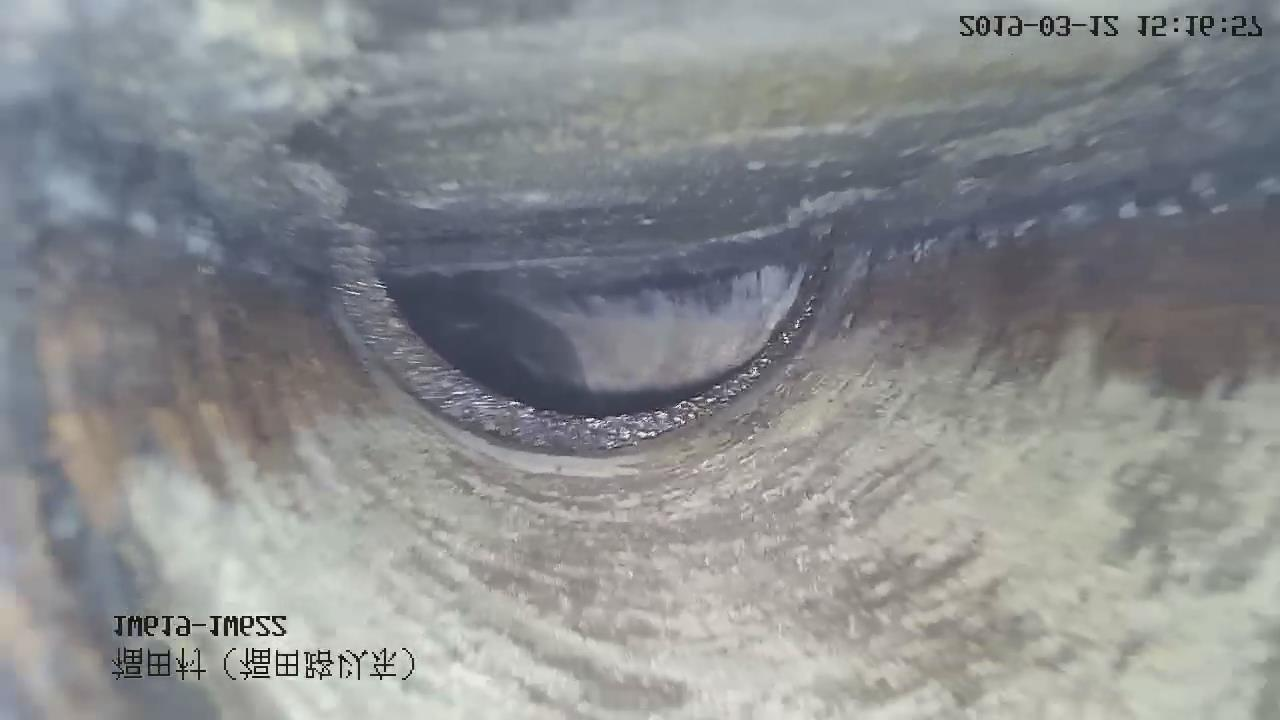CKTJ: (334, 243, 819, 455)
FZ: (0, 1, 1279, 266)
